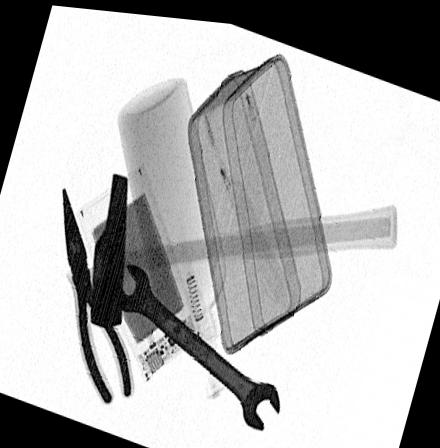Hammer: (90, 168, 397, 327)
Pliers: (61, 185, 134, 406)
Powerbank: (77, 158, 202, 377)
Wrench: (114, 260, 281, 424)
